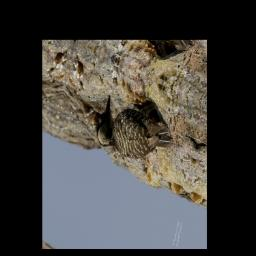Woodpecker: (92, 78, 181, 177)
